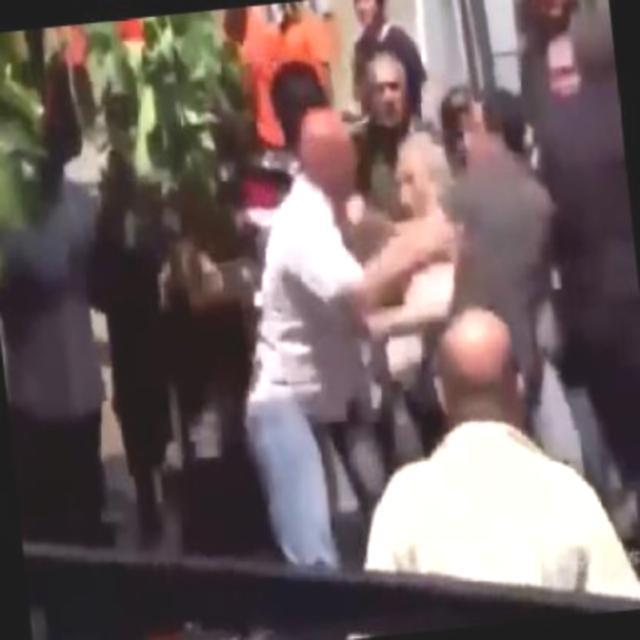fight: (378, 87, 559, 316)
